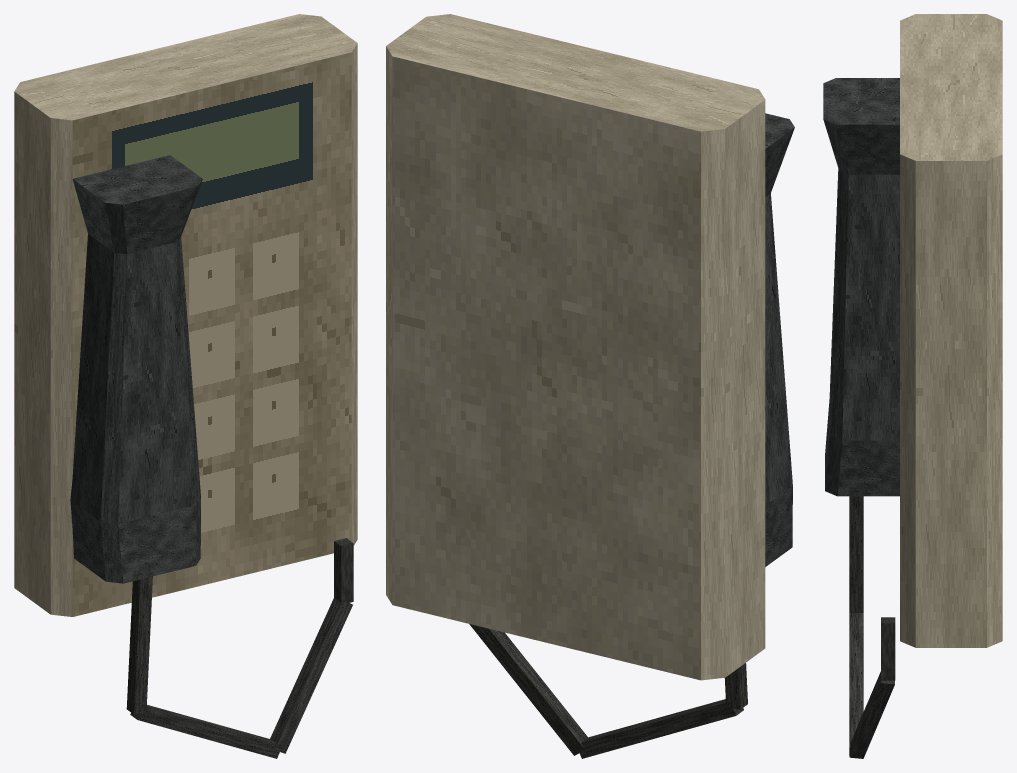
The model's file is wall_phone.glb.
The picture shows the model from 3 angles, left to right: view 1: azimuth 30°, elevation 25°; view 2: azimuth 150°, elevation 25°; view 3: azimuth 270°, elevation 25°; orthographic projection. The views are drawn at different scales.
Visible parts, largest first — view 1: Body; view 2: Body; view 3: Body.
Boxes of the visible parts, bbox=[...] form: Body: bbox=[14, 14, 357, 758]; Body: bbox=[386, 14, 794, 758]; Body: bbox=[823, 14, 1002, 758].
Size of the model in its own units: 0.22 by 0.454 by 0.1135.
1 material, 1 textured.
